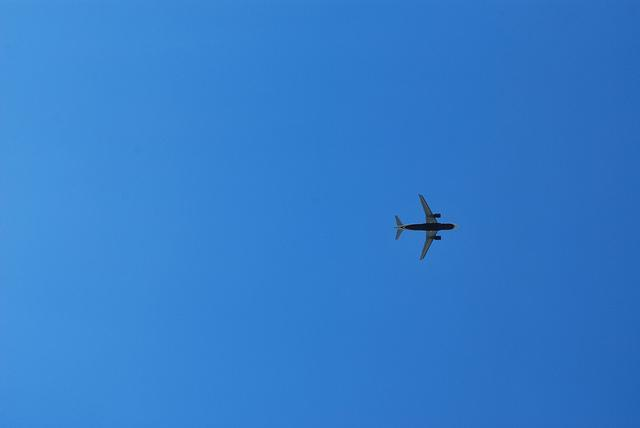airplane: (391, 191, 459, 262)
